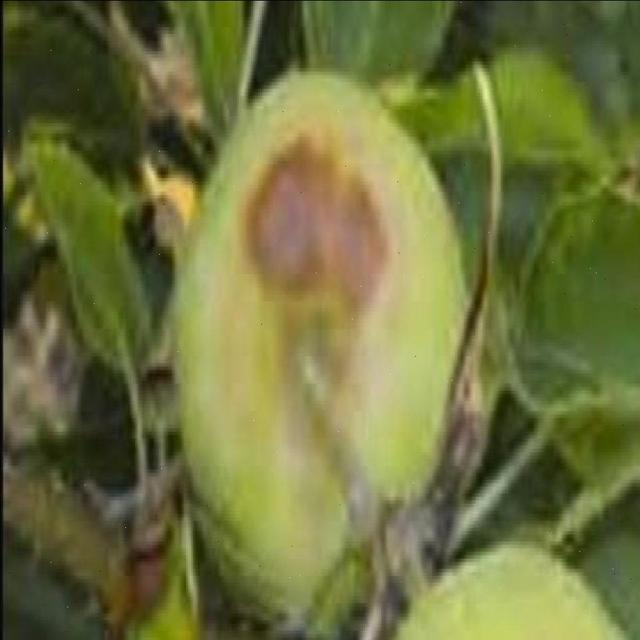Sunscald Fruit: (155, 85, 270, 245)
